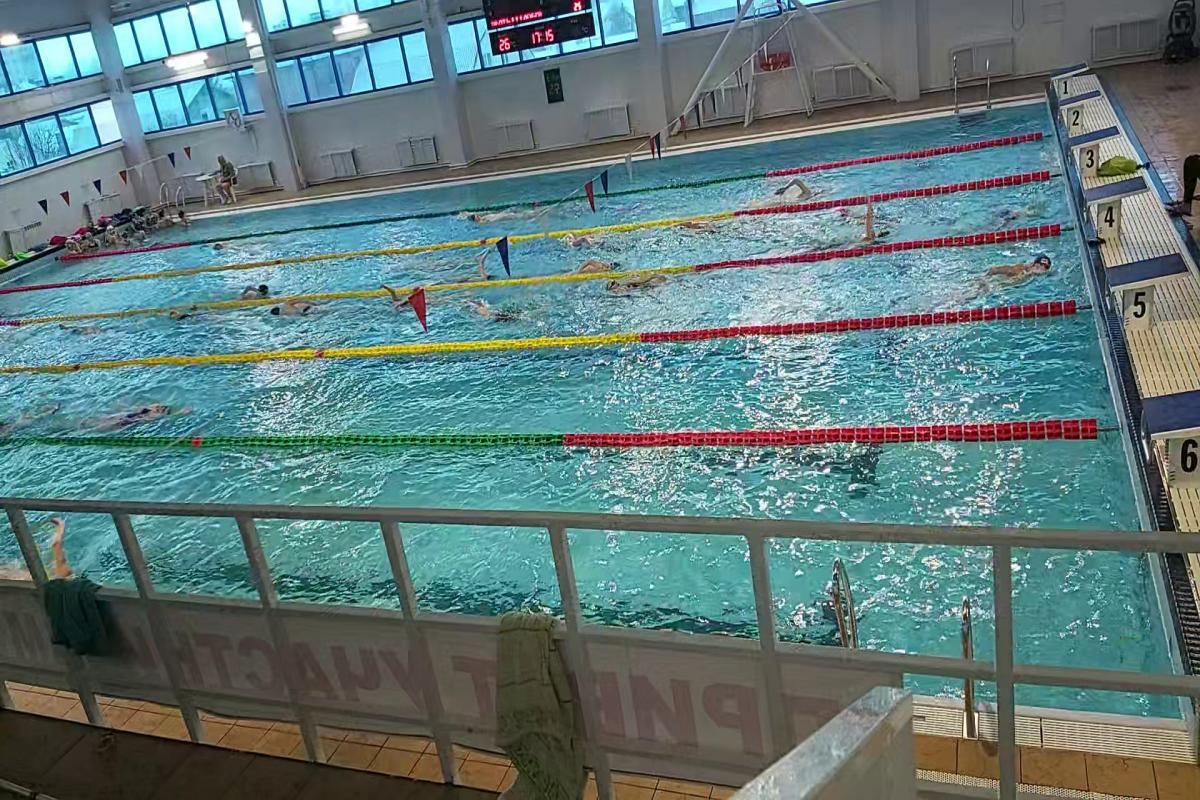swimmer: (980, 247, 1072, 302), (83, 396, 197, 428), (450, 294, 528, 328), (837, 208, 902, 243), (459, 206, 564, 222), (264, 297, 331, 322), (164, 300, 227, 326), (601, 276, 678, 297), (771, 178, 831, 200), (236, 272, 276, 298), (564, 255, 622, 268)
